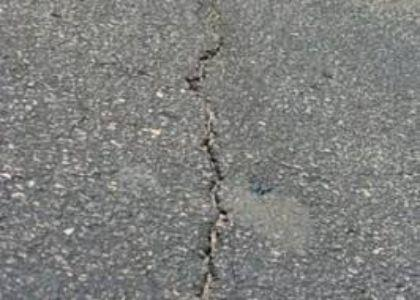crack: (181, 0, 232, 300)
